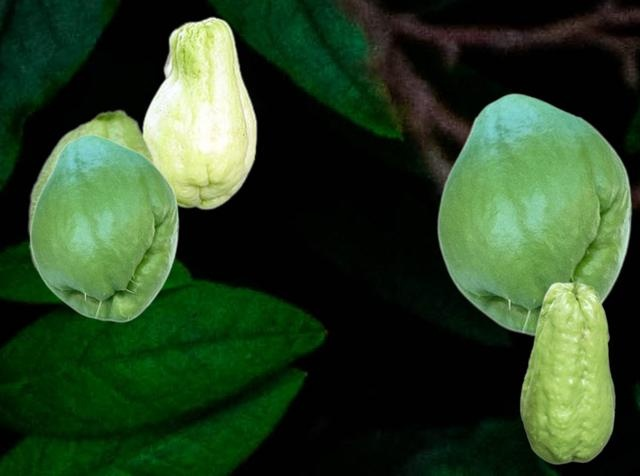sayote: (436, 93, 631, 336), (29, 134, 178, 322), (141, 16, 256, 209), (27, 108, 158, 275), (519, 281, 615, 464)
